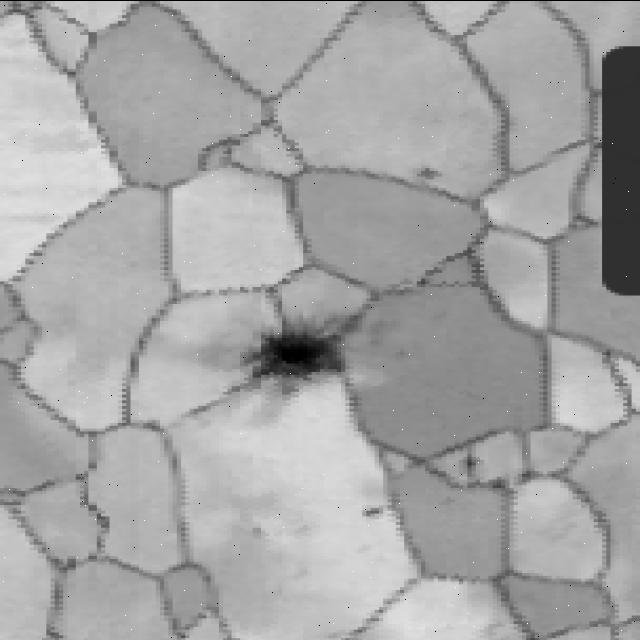good_void: (232, 317, 349, 396), (350, 493, 393, 526), (407, 164, 445, 182)
